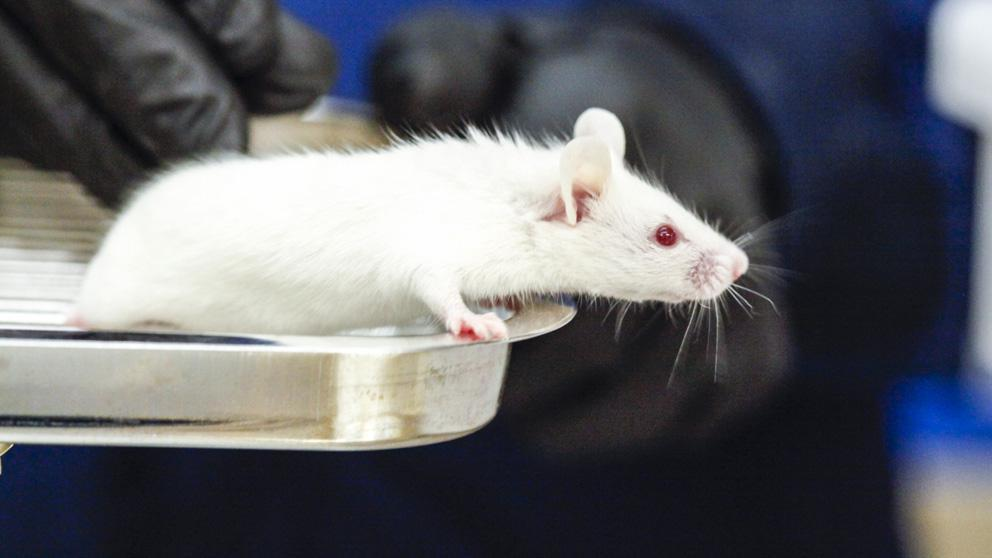rat: (67, 106, 750, 344)
